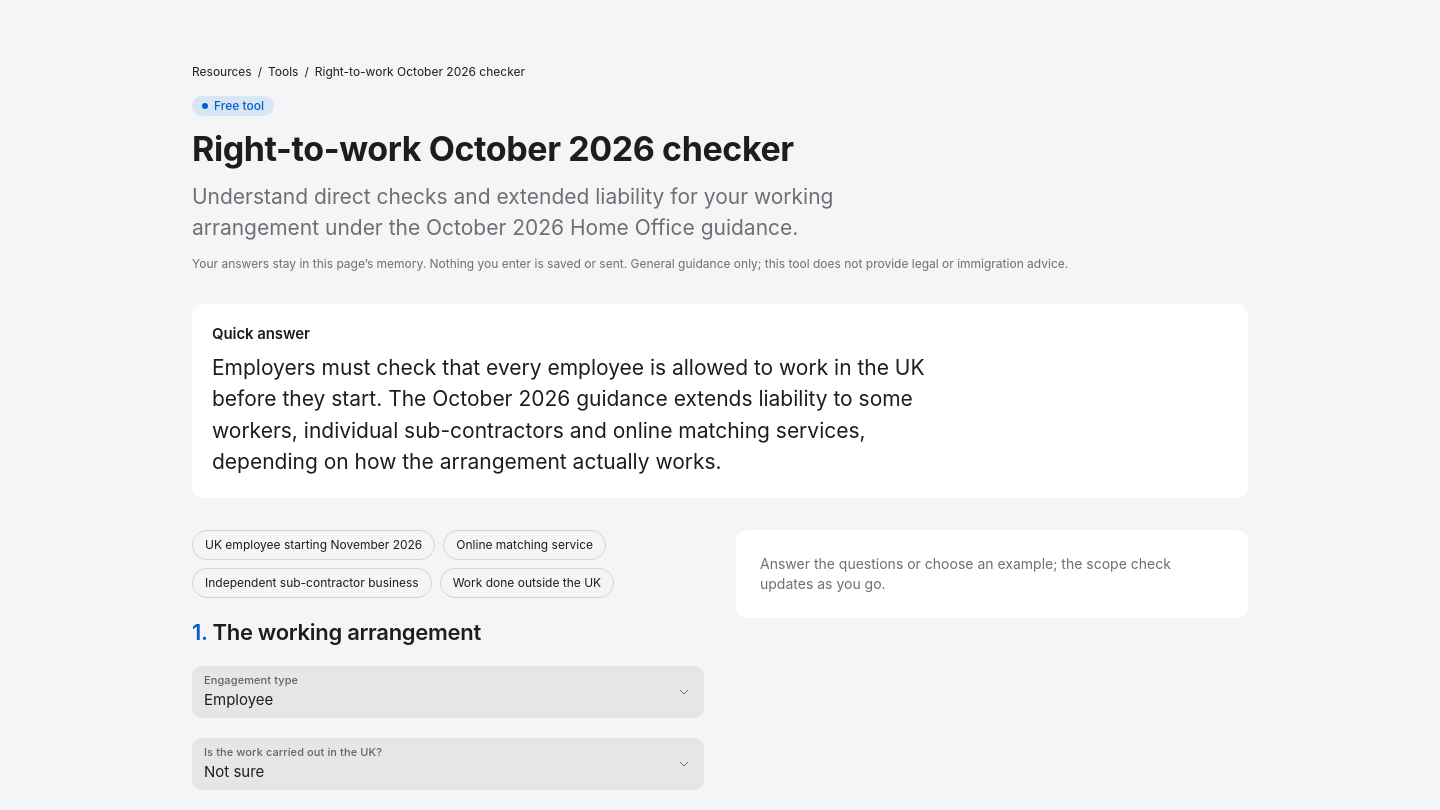
Test case: public right-to-work calculator › shows the frame sections and fills the form from a preset
The image size is (1440, 810).
Check: the heading "Quick answer" is shown, box [212,324,310,343]
Check: the heading "1. The working arrangement" is shown, box [192,619,481,645]
Click the button "Online matching service".
click(525, 545)  # box [443,530,606,560]
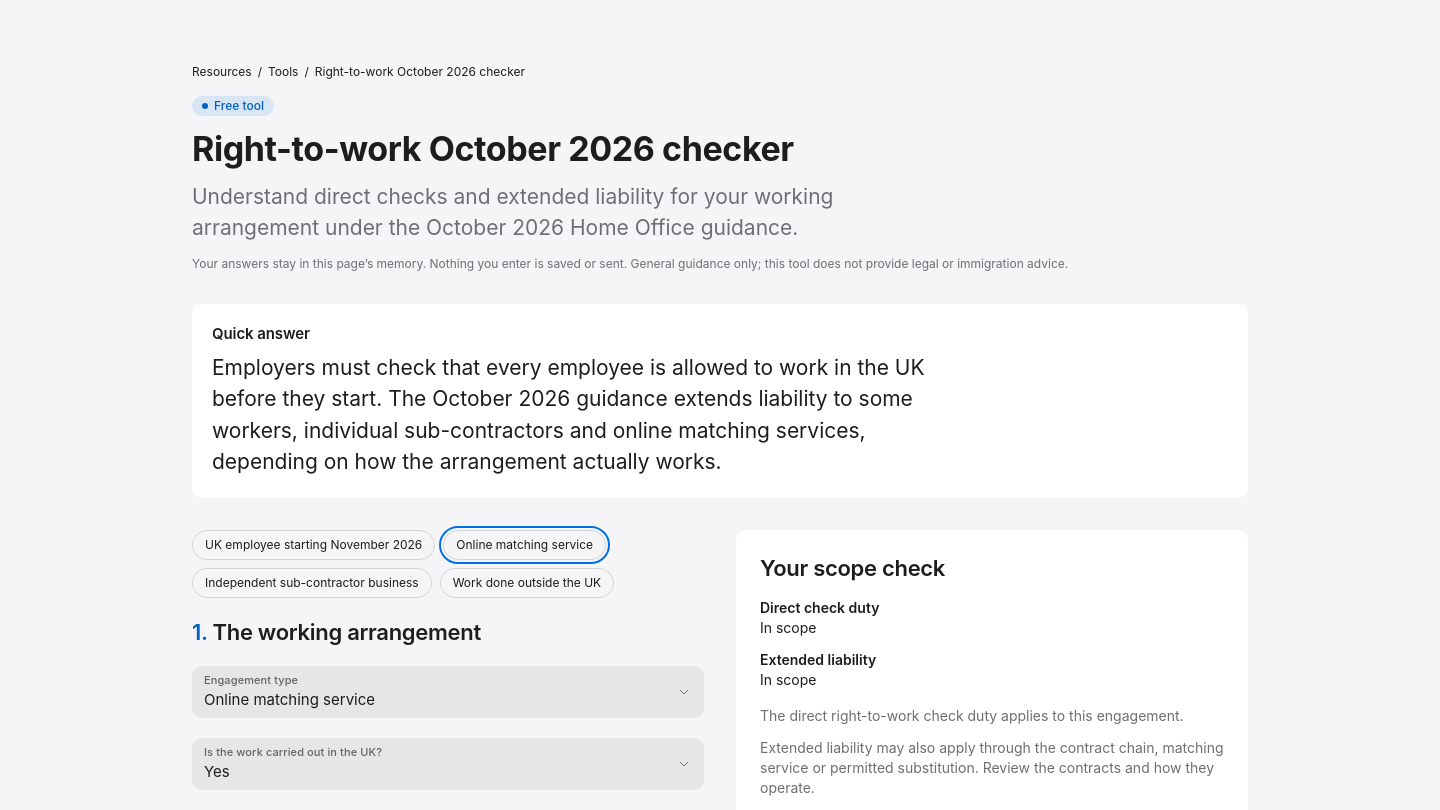
Check: the dropdown labelled "Engagement type" shows "Online matching service", box [192,666,704,718]
Check: the element named "Checker result" shows "Extended liability", box [760,651,876,668]
Click the button "Work done outside the UK".
click(527, 583)  # box [440,568,614,598]
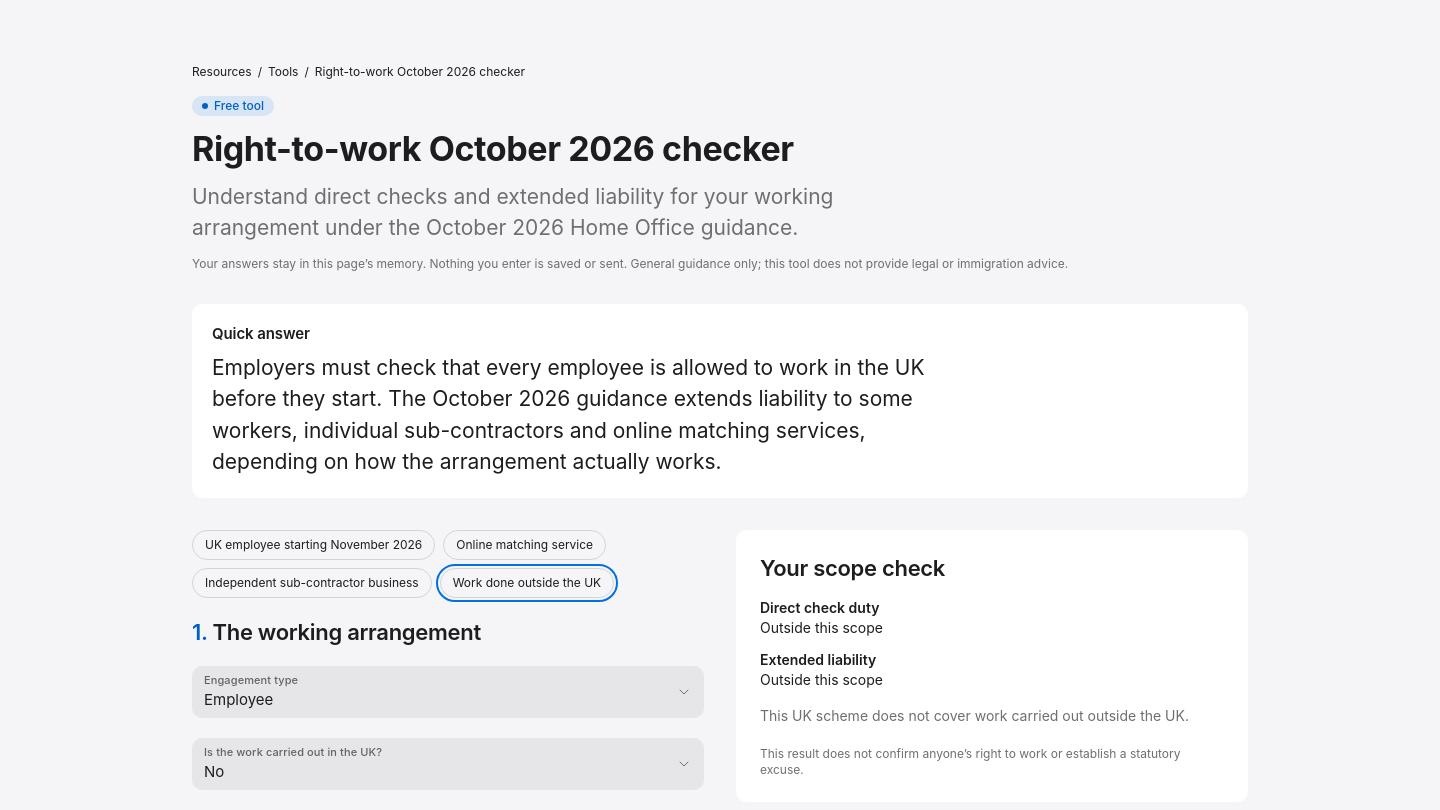
Check: the element named "Checker result" shows "outside the UK", box [760,707,1189,724]
